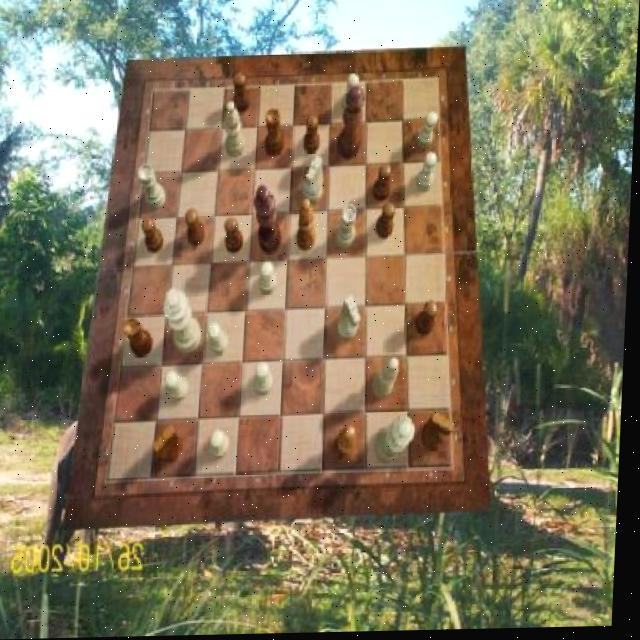bishop: (297, 199, 319, 253), (336, 426, 360, 464)
black-bishop: (253, 186, 286, 255)
black-king: (423, 414, 458, 452), (155, 426, 187, 464)
black-knight: (142, 216, 166, 254), (185, 209, 207, 246), (418, 301, 440, 336), (377, 204, 397, 242), (225, 219, 246, 255), (373, 165, 392, 203), (234, 75, 252, 114), (304, 118, 322, 156)
black-pawn: (337, 88, 366, 162)
black-queen: (125, 319, 156, 359), (265, 110, 287, 158)
black-rook: (224, 104, 248, 160), (375, 360, 403, 401)
white-bishop: (164, 288, 205, 355)
white-king: (340, 297, 365, 343), (304, 157, 325, 205)
white-knight: (417, 114, 439, 152), (416, 156, 437, 194), (168, 372, 193, 403), (210, 323, 233, 356), (342, 75, 360, 117), (257, 362, 278, 397), (261, 262, 280, 297), (213, 433, 234, 461)
white-pawn: (377, 419, 419, 467)
white-queen: (137, 165, 168, 211), (337, 206, 359, 252)
